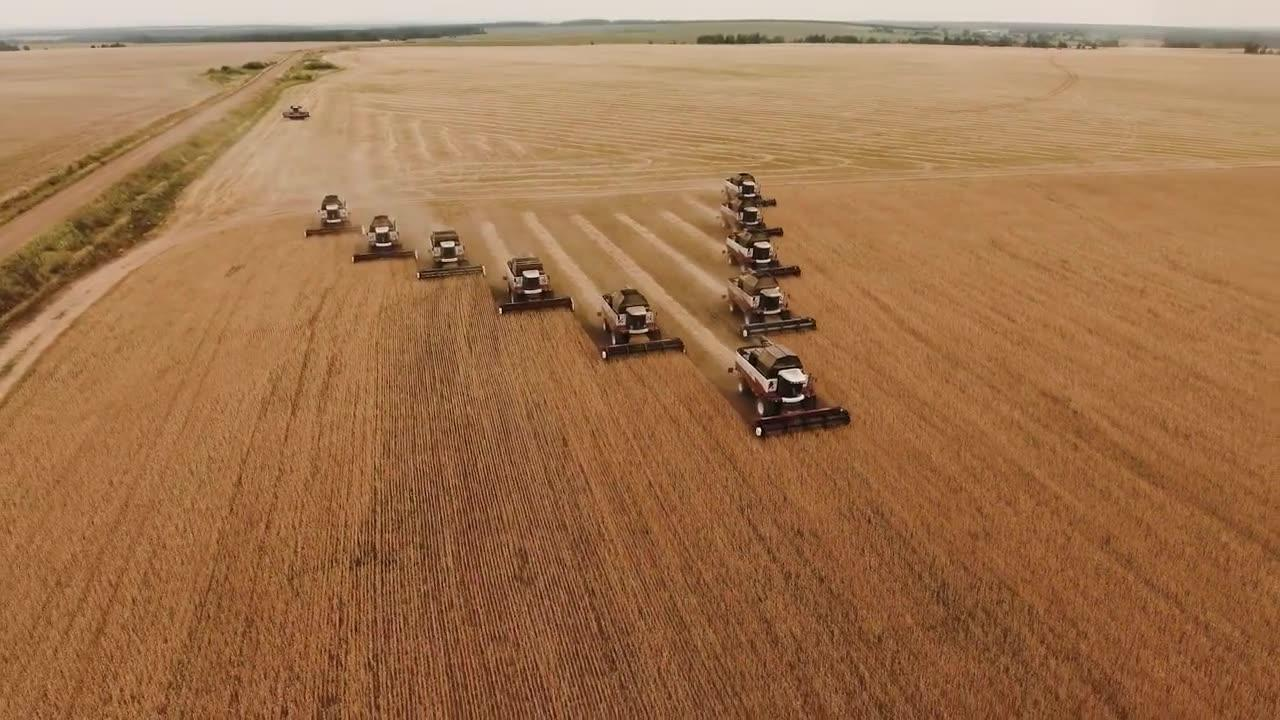combine harvester: (727, 340, 857, 442), (720, 268, 827, 344), (594, 286, 689, 371), (491, 254, 580, 320), (344, 209, 427, 274), (413, 222, 487, 294), (717, 226, 811, 281), (711, 195, 793, 238), (298, 190, 367, 241), (718, 168, 782, 203), (280, 99, 312, 122)
